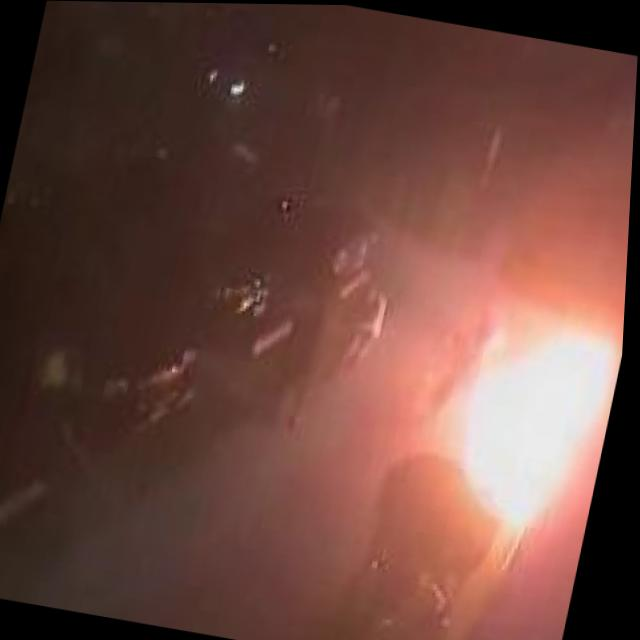fire: (422, 284, 629, 549)
